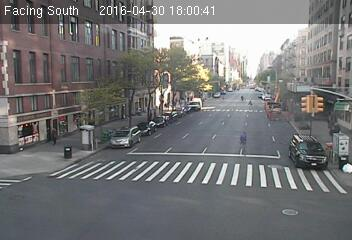neg: (295, 123, 317, 151), (102, 19, 120, 42), (111, 110, 129, 133), (265, 66, 282, 88), (185, 99, 198, 117)
pos: (231, 125, 252, 154), (45, 125, 59, 144)
